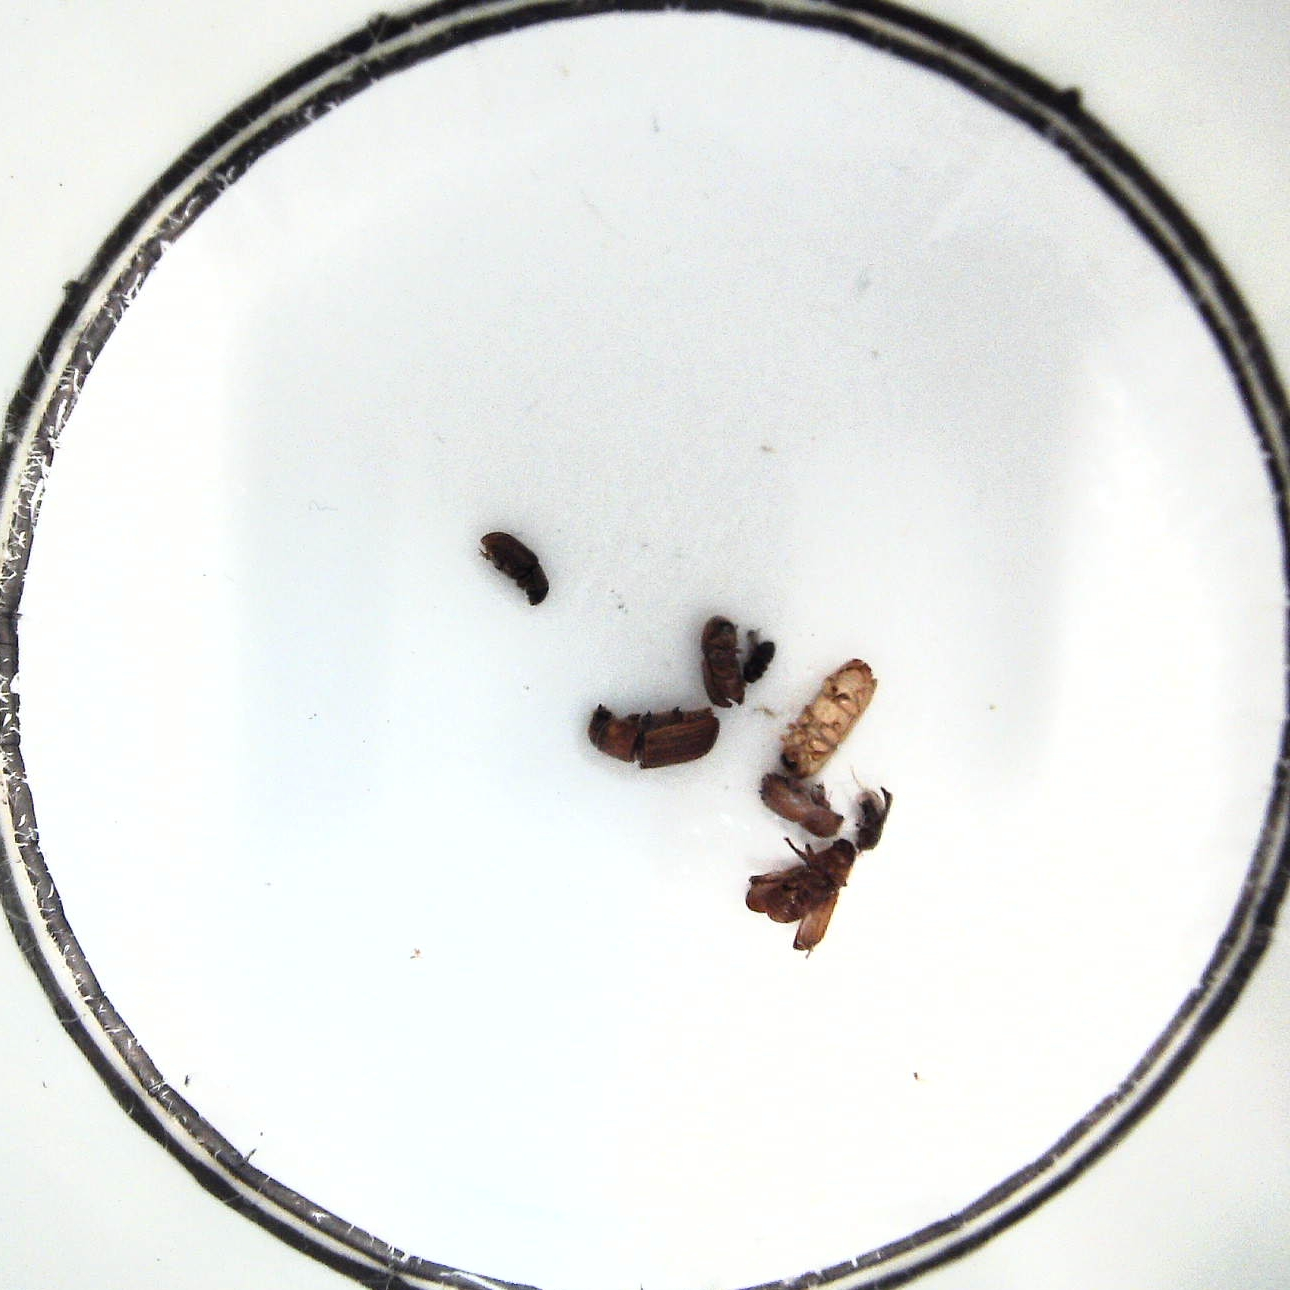Boerner: (778, 656, 879, 780)
Leconte: (741, 838, 852, 960), (589, 698, 718, 774)
Linnaeus: (761, 771, 843, 836), (701, 615, 745, 709)
acuminatus: (855, 790, 894, 851)
armandi: (478, 530, 552, 608)
coleoptera: (744, 628, 777, 685)
